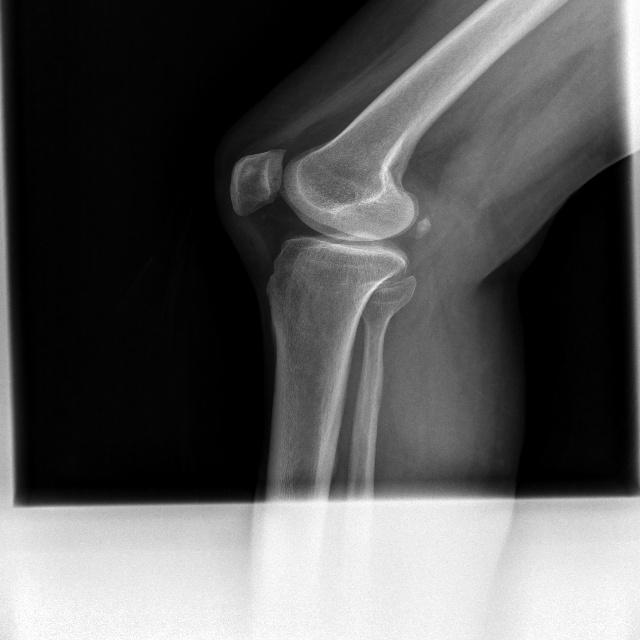Knee: (224, 145, 420, 304)
